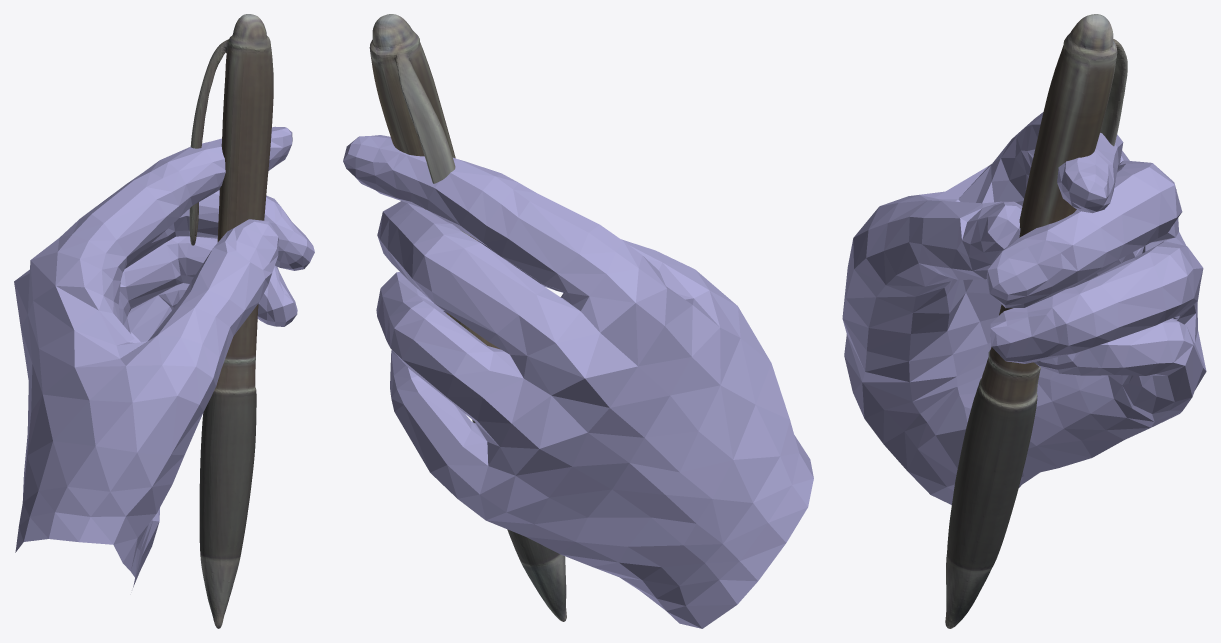
File: frame_0052_source_000052_hand_object.glb
The picture shows the model from 3 angles, left to right: view 1: azimuth 30°, elevation 25°; view 2: azimuth 150°, elevation 25°; view 3: azimuth 270°, elevation 25°; orthographic projection. The views are drawn at different scales.
Visible parts, largest first — view 1: world; view 2: world; view 3: world.
Boxes of the visible parts, x1,y1,x2,y2 form: world: (14, 14, 314, 628); world: (343, 14, 813, 628); world: (842, 14, 1206, 628).
Bounding box in the file's own units: 0.1187 × 0.1857 × 0.0919.
